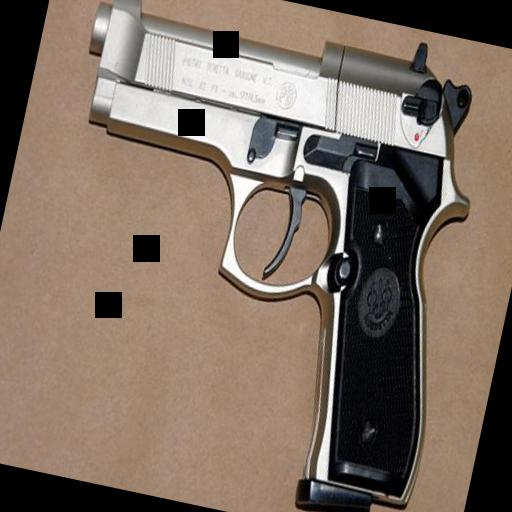Handgun: (0, 0, 506, 512)
